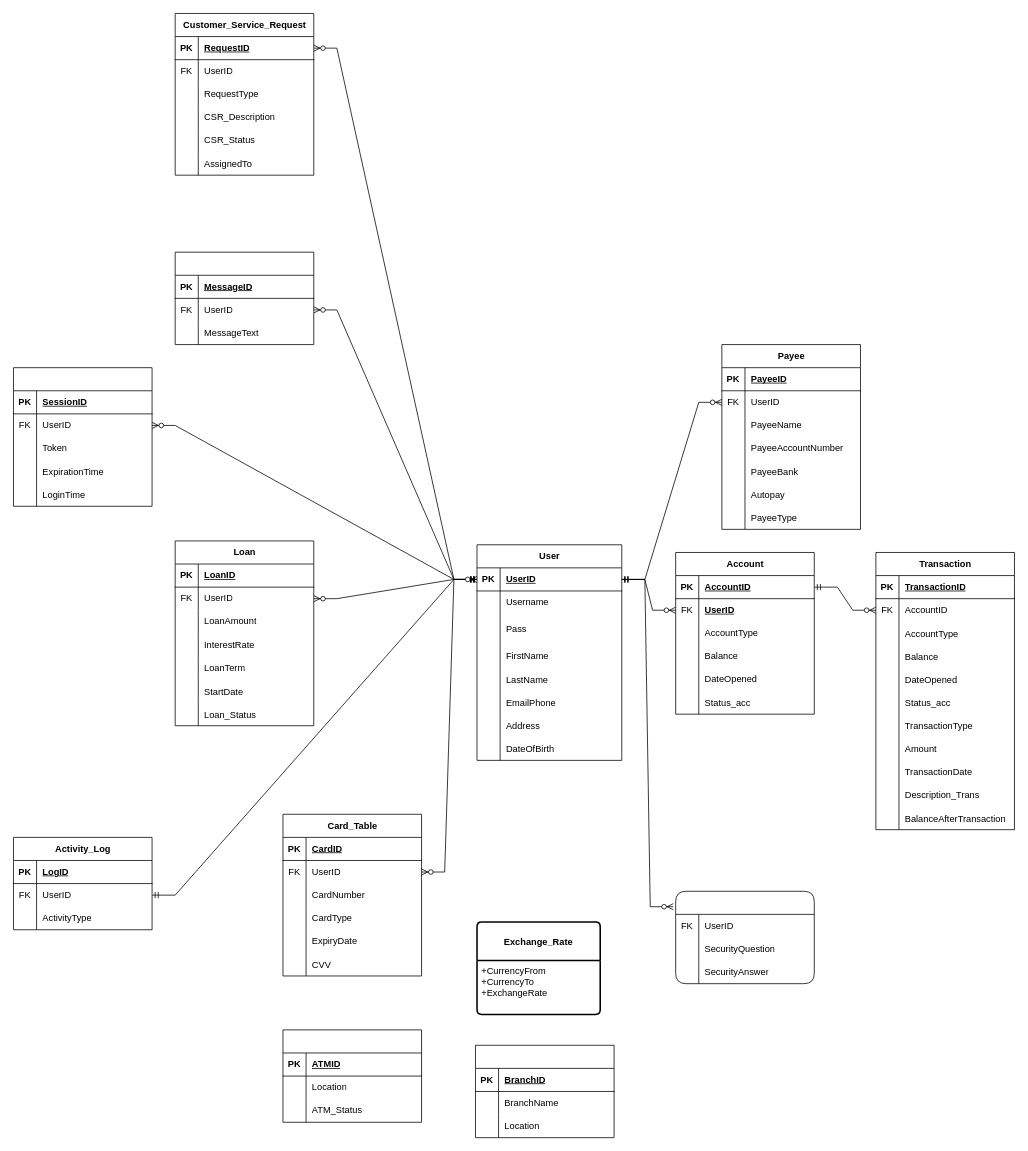
The diagram is 1028 pixels wide and 1151 high, and some of its shapes have lost their labels. The shapes that lost their labels are listed below. From the top down, each one's box as (x1, y1, x2, y2) in pixels, then its label:
(174, 251, 314, 345): Message_Table
(13, 367, 152, 506): Session_table
(675, 891, 814, 984): Security_Table
(282, 1029, 422, 1122): ATM_Table
(475, 1045, 614, 1138): Branch_Table
